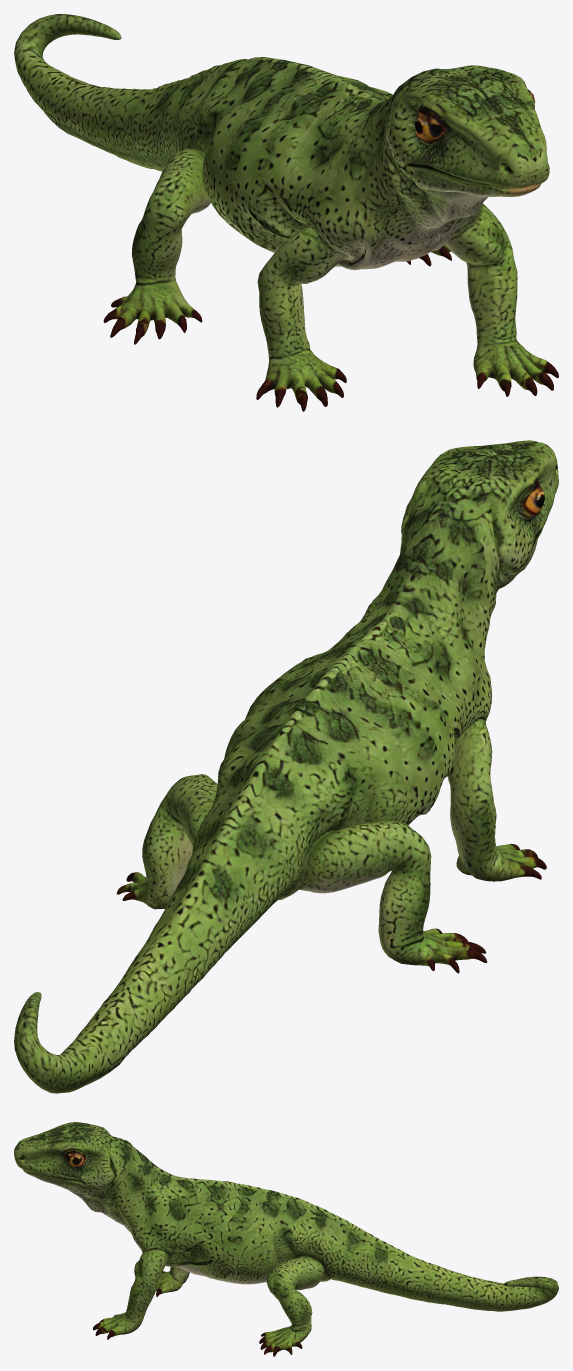
The model's file is amniote.glb.
3 views of the same model, one above another, from view 1: azimuth 30°, elevation 25°; view 2: azimuth 150°, elevation 25°; view 3: azimuth 270°, elevation 25° (orthographic). The views are drawn at different scales.
Parts seen in each view (by area): view 1: model; view 2: model; view 3: model.
Part boxes in pixels (x1=…): model: x1=14, y1=14, x2=558, y2=411; model: x1=14, y1=440, x2=558, y2=1093; model: x1=14, y1=1122, x2=558, y2=1356.
Size of the model in its own units: 0.7693 by 0.6966 by 1.9.
Materials: 1 (1 with a texture image).
